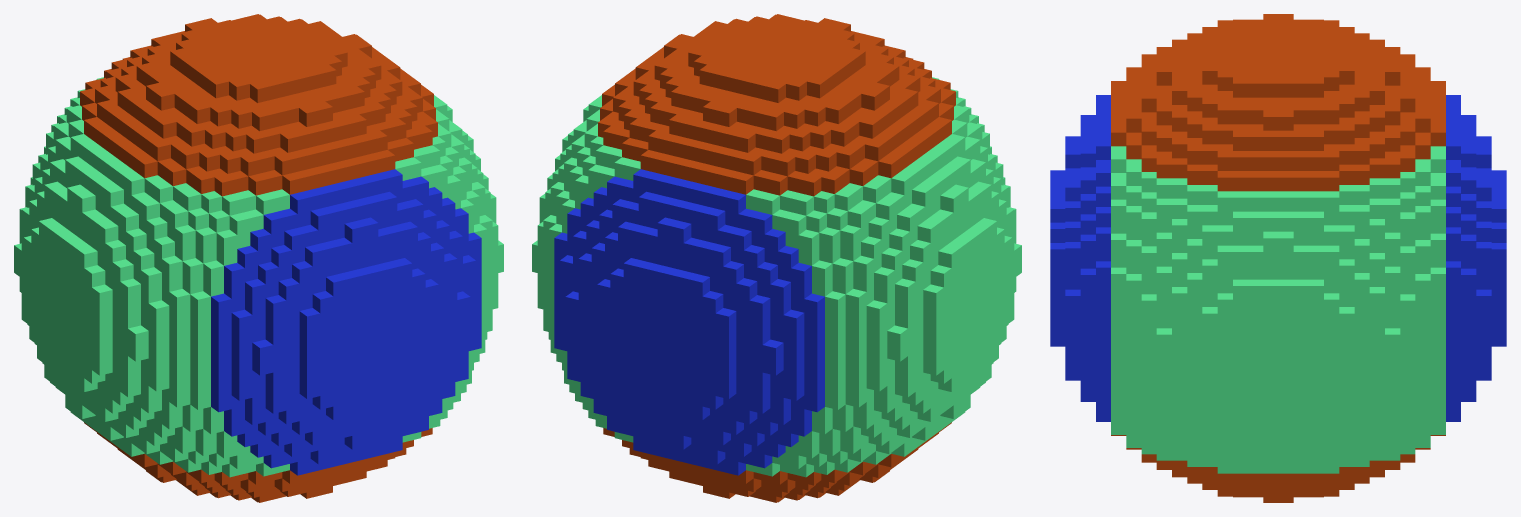
File: Character_3.fbx
The picture shows the model from 3 angles, left to right: view 1: azimuth 30°, elevation 25°; view 2: azimuth 150°, elevation 25°; view 3: azimuth 270°, elevation 25°; orthographic projection.
Parts seen in each view (by area): view 1: Character_3; view 2: Character_3; view 3: Character_3.
Boxes of the visible parts, x1,y1,x2,y2 form: Character_3: (14, 14, 503, 502); Character_3: (532, 14, 1021, 502); Character_3: (1050, 14, 1506, 502).
Size of the model in its own units: 30 by 30 by 30.
Materials: 1 (1 with a texture image).
